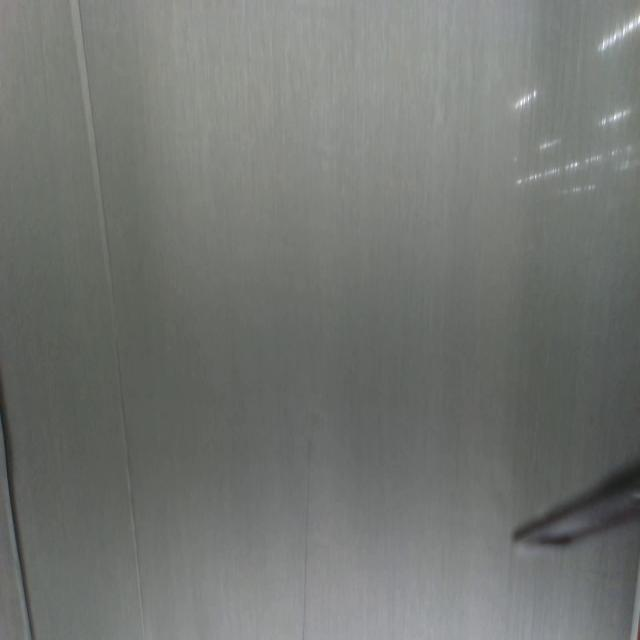crease: (70, 0, 146, 640), (1, 378, 36, 640), (299, 441, 314, 640)
